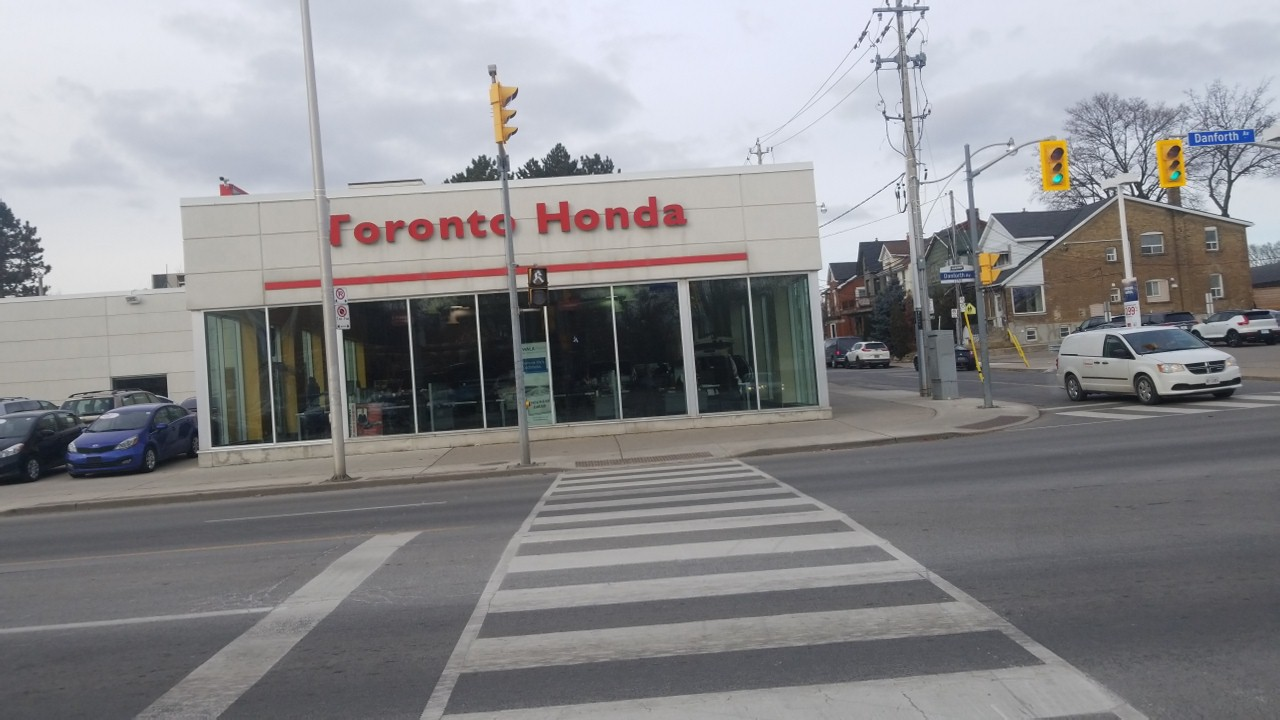light: (526, 263, 550, 309)
